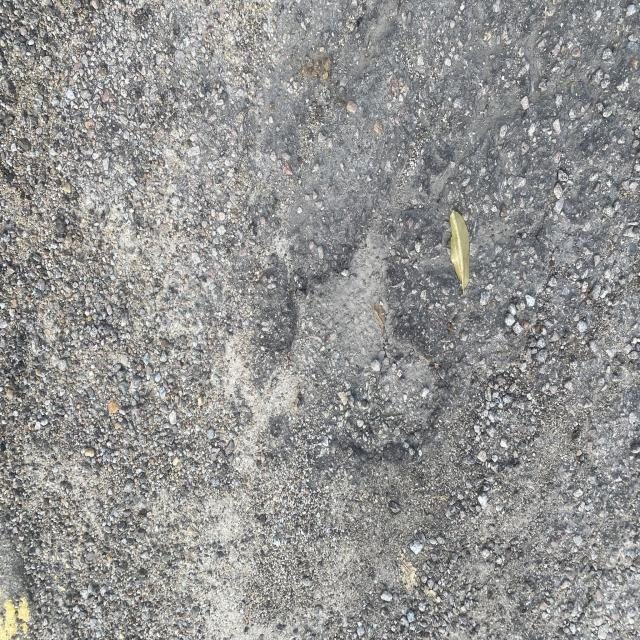Pothole: (263, 211, 465, 532)
